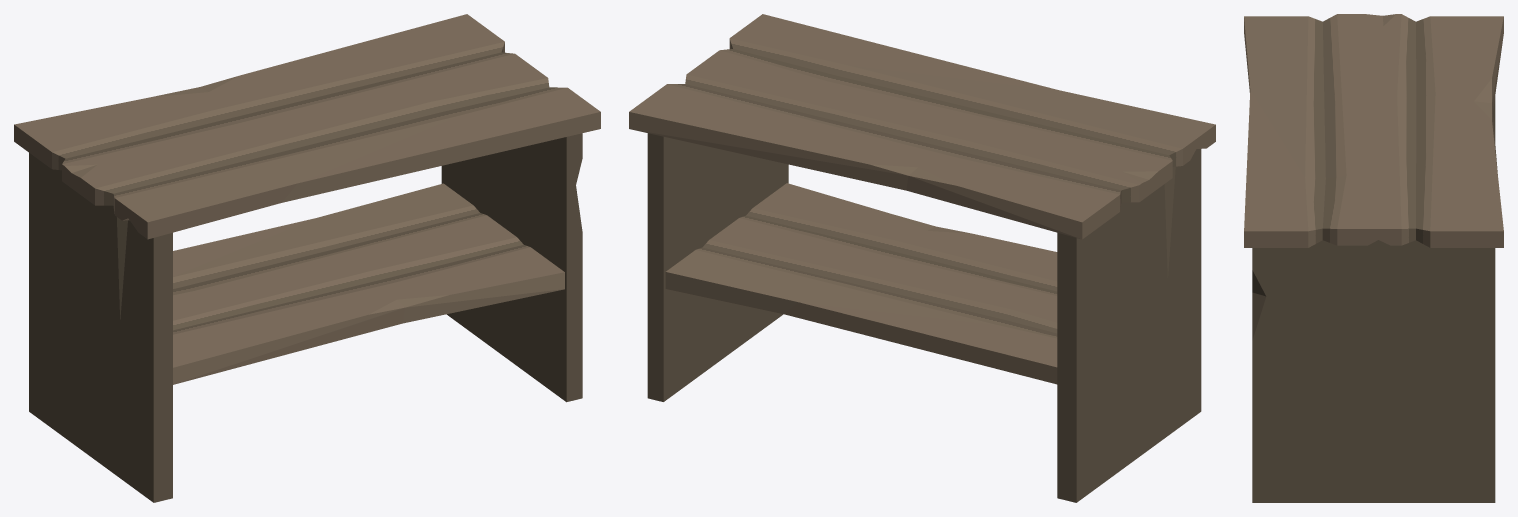
File: SM_Prop_Table_04.glb
3 renders of one model, left to right at view 1: azimuth 30°, elevation 25°; view 2: azimuth 150°, elevation 25°; view 3: azimuth 270°, elevation 25°, orthographic. The views are drawn at different scales.
Visible parts, largest first — view 1: SM_Prop_Table_04; view 2: SM_Prop_Table_04; view 3: SM_Prop_Table_04.
Boxes of the visible parts, x1,y1,x2,y2 form: SM_Prop_Table_04: (14, 14, 600, 502); SM_Prop_Table_04: (629, 14, 1215, 502); SM_Prop_Table_04: (1244, 14, 1503, 502).
Bounding box in the file's own units: 1.3 × 0.7744 × 0.6554.
Materials: 1 (1 with a texture image).
